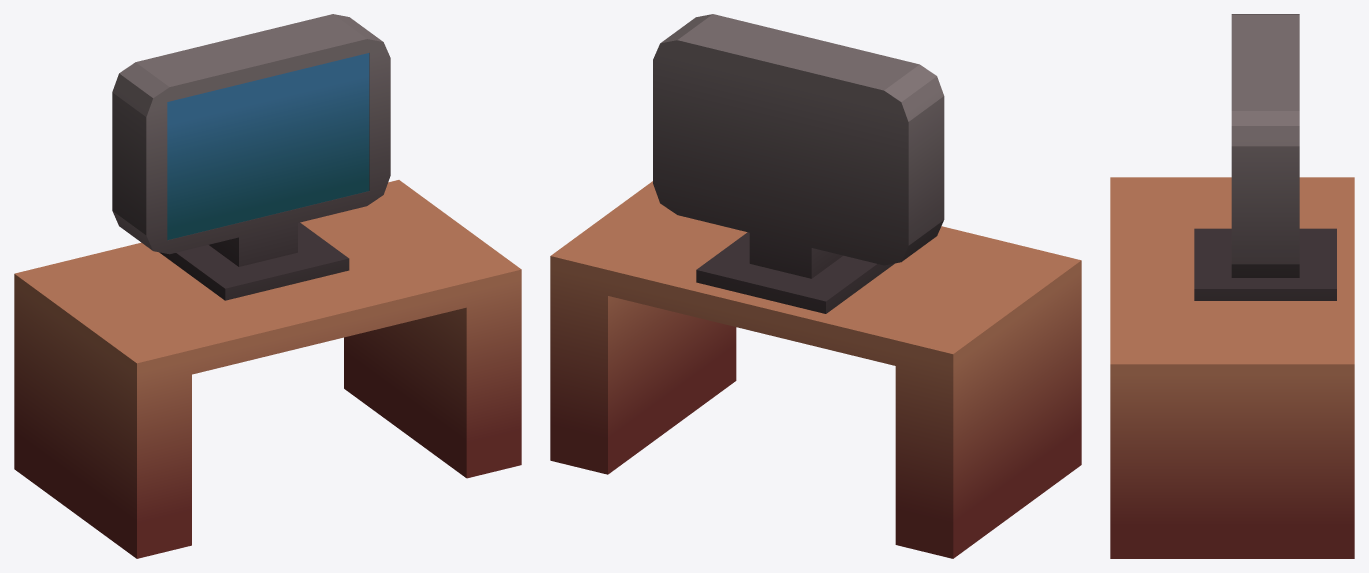
Rendered from copmputer.glb.
3 views of the same model, side by side, from view 1: azimuth 30°, elevation 25°; view 2: azimuth 150°, elevation 25°; view 3: azimuth 270°, elevation 25° (orthographic). The views are drawn at different scales.
Visible parts, largest first — view 1: Cube; view 2: Cube; view 3: Cube.
Boxes of the visible parts, x1,y1,x2,y2 form: Cube: [14, 14, 521, 558]; Cube: [550, 14, 1081, 558]; Cube: [1110, 14, 1354, 558].
Bounding box in the file's own units: 5.77 × 5.8 × 3.18.
1 material, 1 textured.
